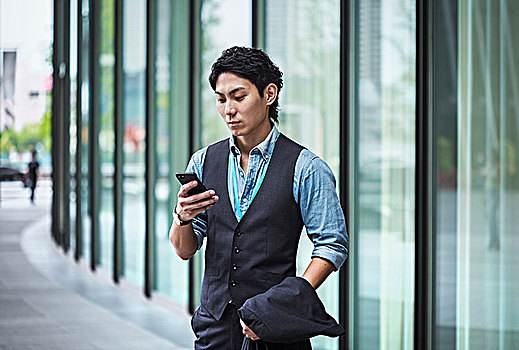reading: (173, 170, 219, 221)
